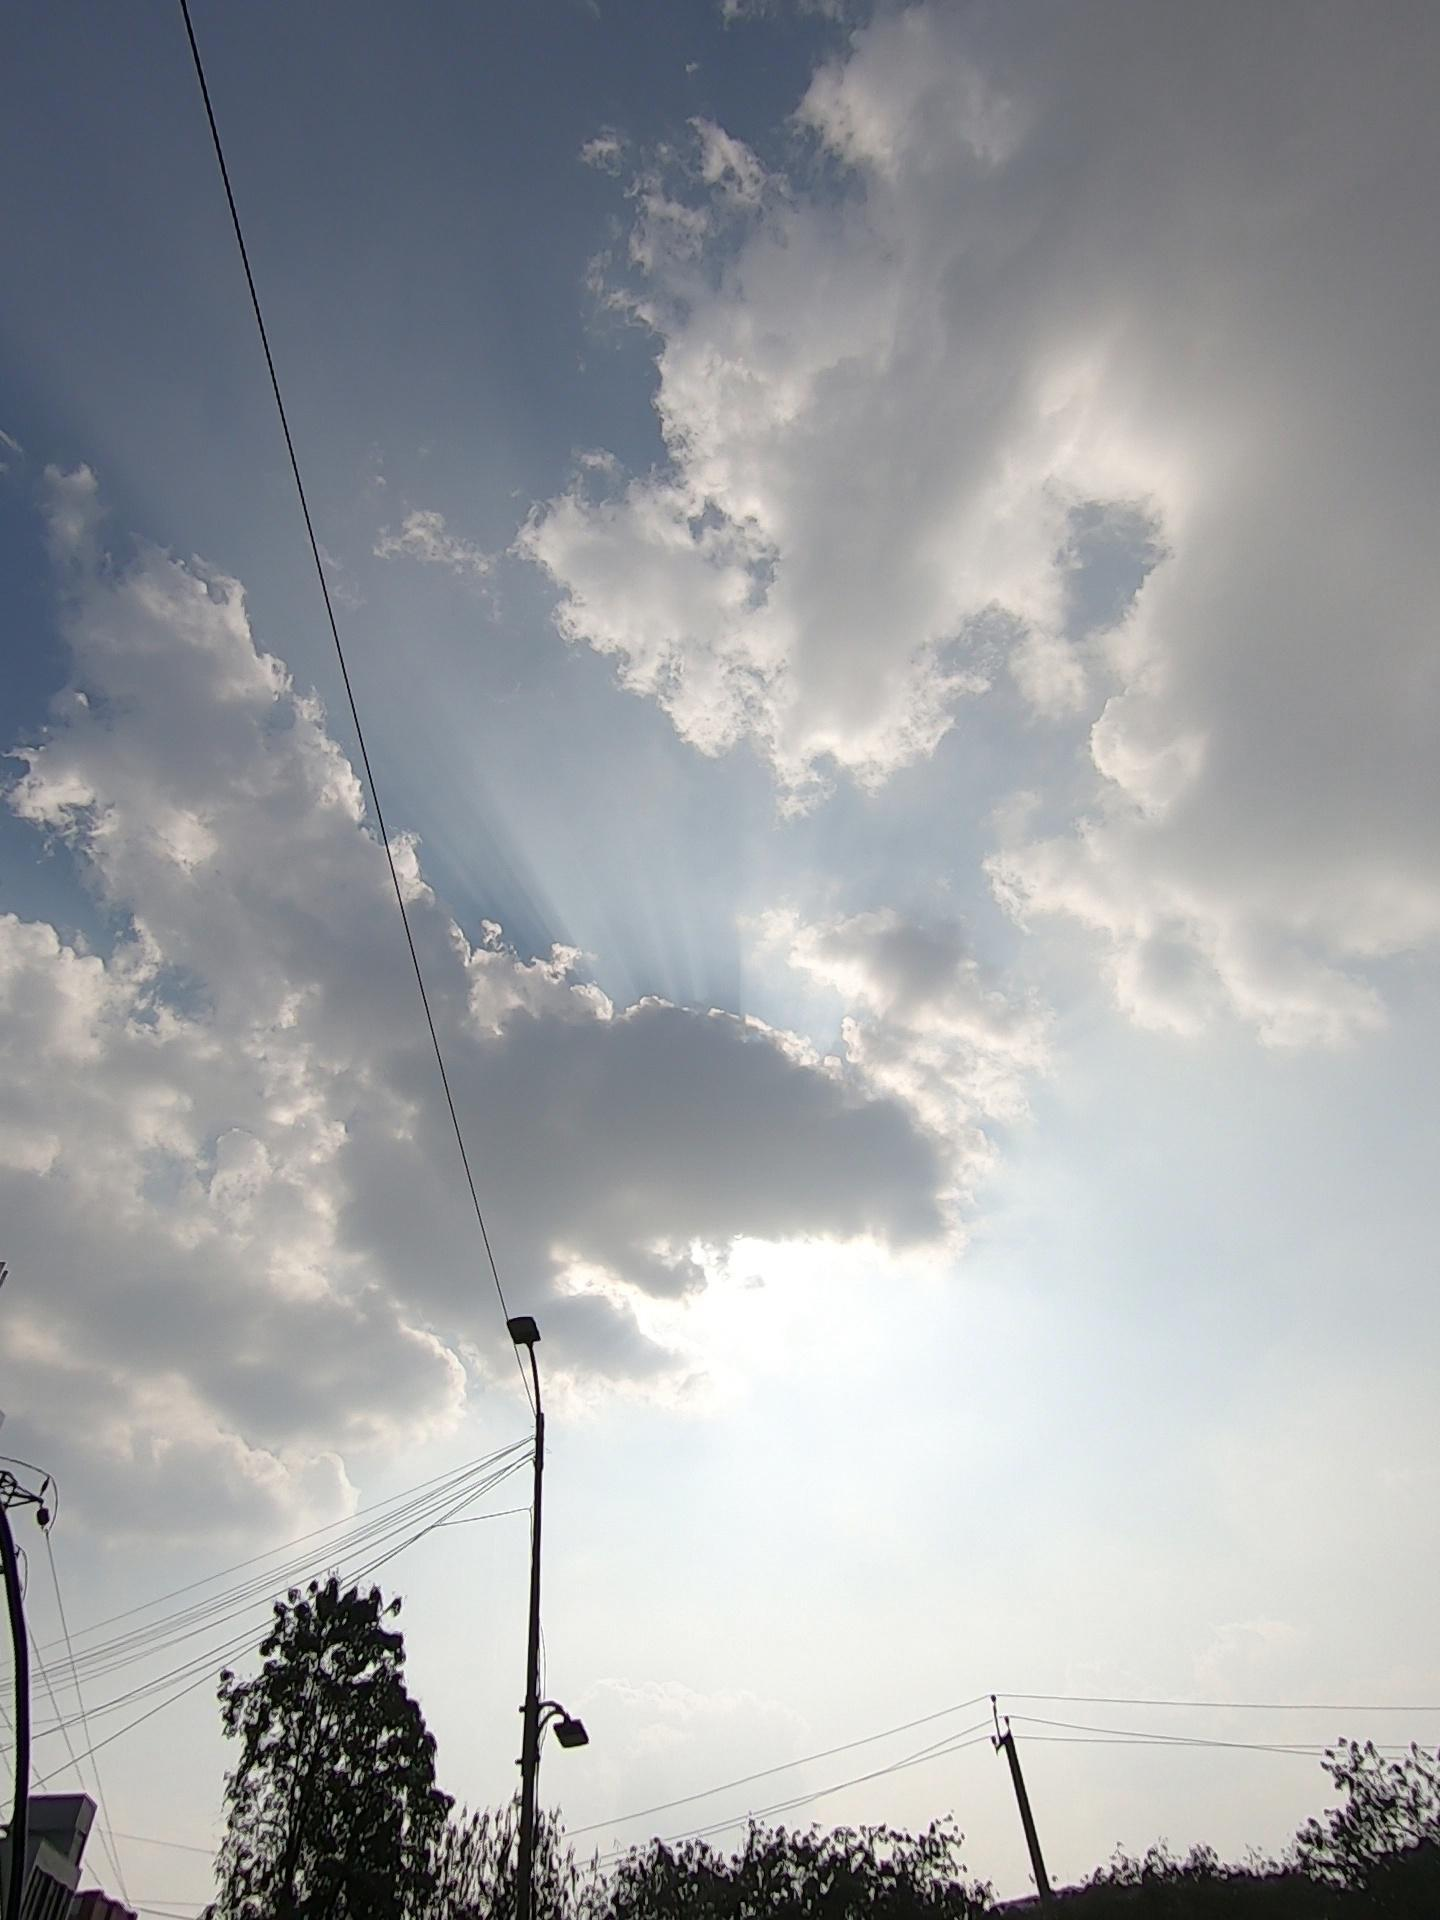off: (430, 1226, 623, 1736)
